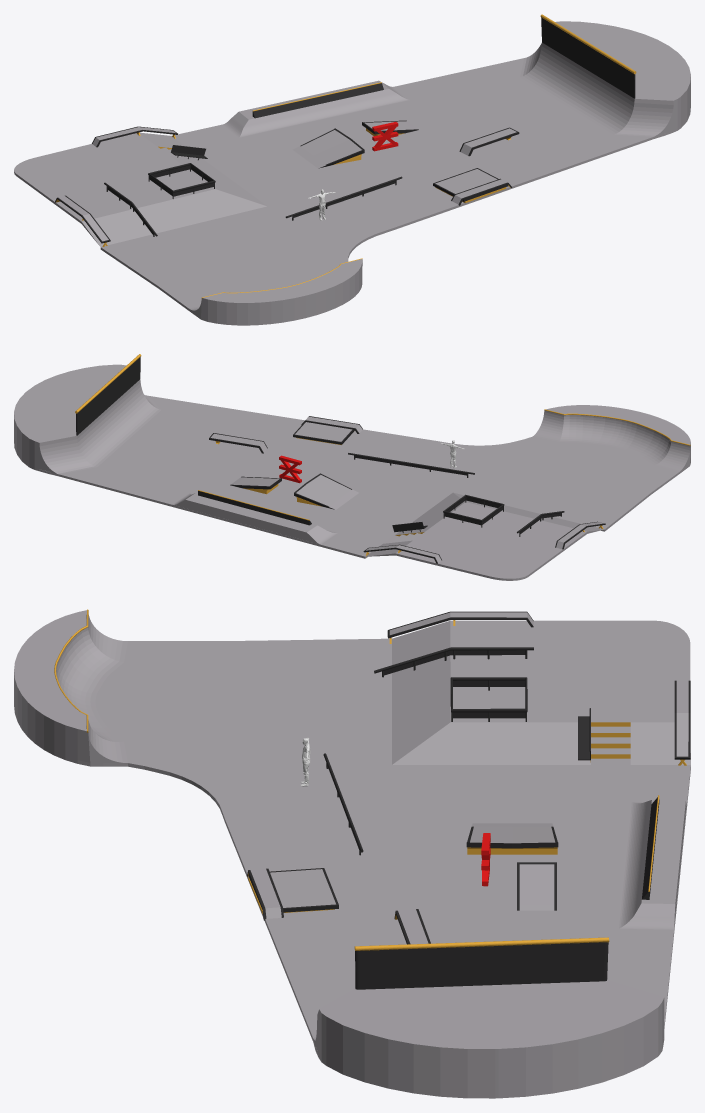
The model's file is SkateParkEnschedeScaled.fbx.
The picture shows the model from 3 angles, top to bottom: view 1: azimuth 30°, elevation 25°; view 2: azimuth 150°, elevation 25°; view 3: azimuth 270°, elevation 25°; orthographic projection. The views are drawn at different scales.
Visible parts, largest first — view 1: MainBankHipBowl, AngledQuarterBank.001, SeperateBankBig, PlaneRail, BoxLedgeTop, LedgeHigh, Hubba1, FlatPlaneSquare, EnschedeLedge, Hubba2, LedgeLow; view 2: MainBankHipBowl, AngledQuarterBank.001, SeperateBankBig, BoxLedgeTop, PlaneRail, SeperateBankSmall, LedgeHigh, FlatPlaneSquare, EnschedeLedge, Hubba2, LedgeLow, Hubba1; view 3: MainBankHipBowl, AngledQuarterBank.001, SeperateBankBig, BoxLedgeTop, SeperateBankSmall, Hubba2, Hubba1, LedgeLow, FlatPlaneSquare, LedgeHigh, PlaneRail, RailSquare (+1 smaller).
Part boxes in pixels (x1,y1,x2,y2): MainBankHipBowl: (14, 14, 690, 325); AngledQuarterBank.001: (223, 80, 409, 137); SeperateBankBig: (293, 128, 364, 168); PlaneRail: (252, 82, 383, 118); BoxLedgeTop: (433, 168, 508, 201); LedgeHigh: (459, 127, 519, 156); Hubba1: (55, 195, 110, 243); FlatPlaneSquare: (149, 165, 214, 196); EnschedeLedge: (372, 122, 398, 151); Hubba2: (92, 126, 177, 147); LedgeLow: (451, 178, 512, 205); MainBankHipBowl: (14, 354, 690, 580); AngledQuarterBank.001: (172, 492, 337, 544); SeperateBankBig: (294, 473, 358, 509); BoxLedgeTop: (293, 422, 354, 444); PlaneRail: (198, 490, 311, 525); SeperateBankSmall: (230, 476, 281, 494); LedgeHigh: (209, 433, 267, 453); FlatPlaneSquare: (444, 497, 502, 525); EnschedeLedge: (279, 455, 301, 483); Hubba2: (363, 544, 441, 563); LedgeLow: (301, 416, 362, 433); Hubba1: (555, 521, 605, 549); MainBankHipBowl: (14, 609, 690, 1098); AngledQuarterBank.001: (619, 800, 686, 929); SeperateBankBig: (466, 823, 558, 854); BoxLedgeTop: (248, 868, 338, 912); SeperateBankSmall: (517, 862, 556, 910); Hubba2: (674, 680, 690, 759); Hubba1: (387, 611, 533, 638); LedgeLow: (247, 868, 283, 920); FlatPlaneSquare: (453, 680, 525, 718); LedgeHigh: (394, 909, 430, 944); PlaneRail: (642, 795, 659, 899); RailSquare: (450, 677, 527, 712).
Bounding box in the file's own units: 3816 × 368 × 2393.
